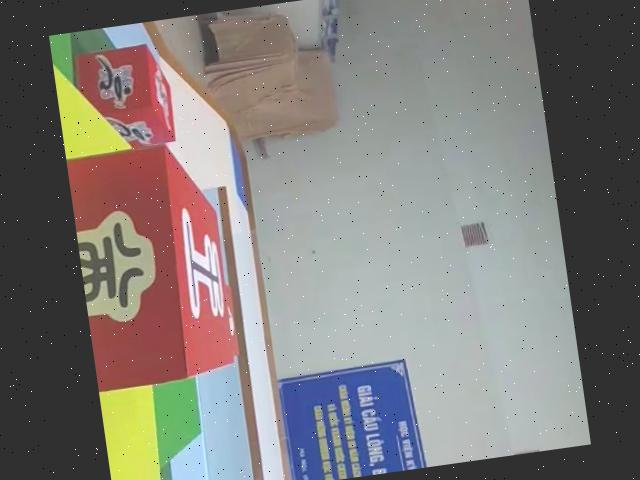R1: (68, 40, 182, 157)
R2 Fake: (66, 136, 245, 392)
